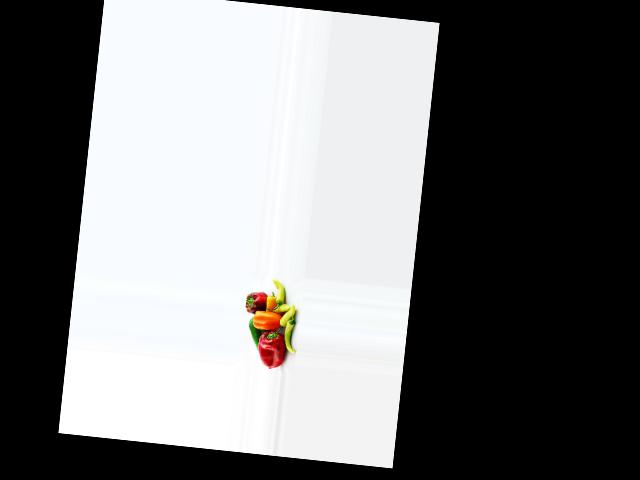bell_pepper: (282, 313, 298, 356)
